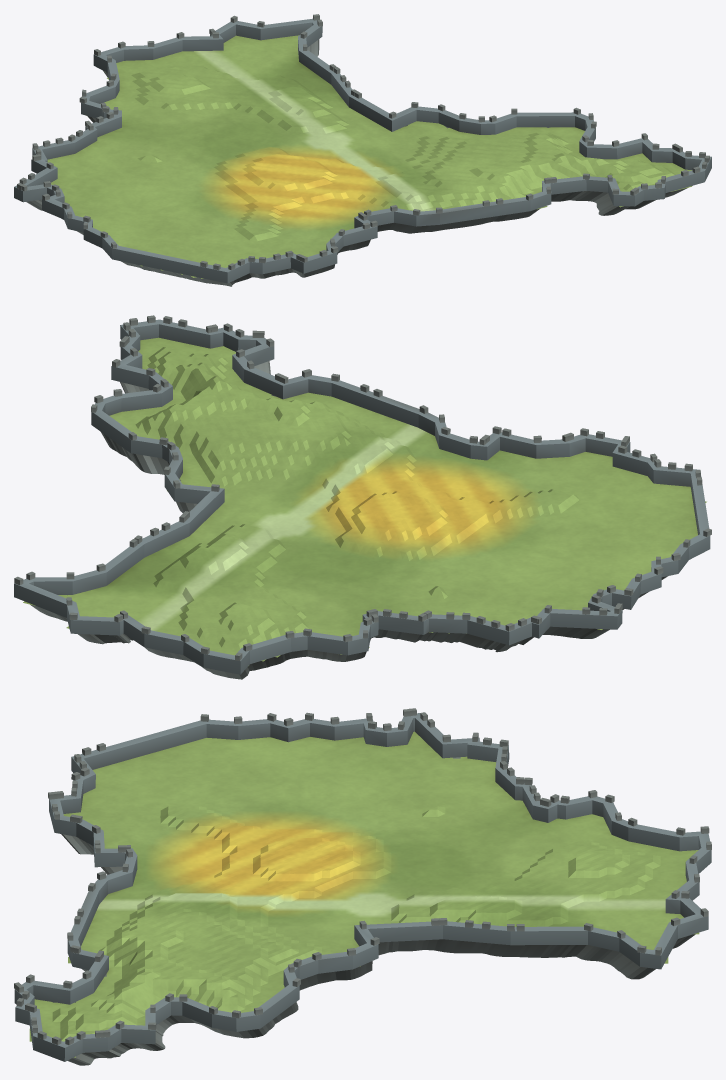
3 renders of one model, top to bottom at view 1: azimuth 30°, elevation 25°; view 2: azimuth 150°, elevation 25°; view 3: azimuth 270°, elevation 25°, orthographic. The views are drawn at different scales.
Parts seen in each view (by area): view 1: ground_b3823dde; view 2: ground_b3823dde; view 3: ground_b3823dde.
Part boxes in pixels (x1=…): ground_b3823dde: x1=14, y1=14, x2=711, y2=286; ground_b3823dde: x1=14, y1=315, x2=711, y2=679; ground_b3823dde: x1=14, y1=708, x2=711, y2=1065.
Size of the model in its own units: 155 by 8.1 by 136.
2 materials, 1 textured.
